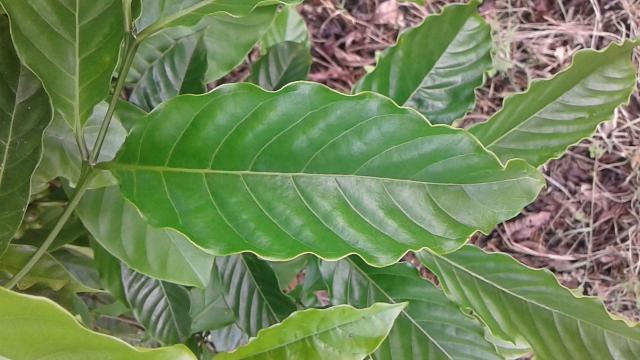healthy: (110, 75, 556, 270)
